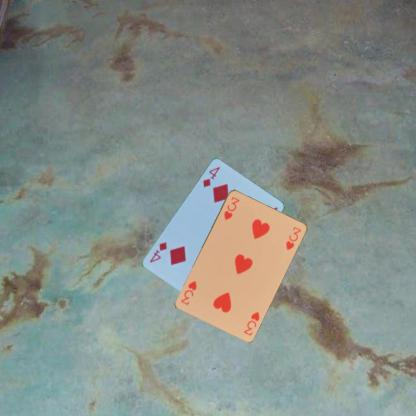3h: (241, 308, 261, 337), (221, 194, 241, 221)
4d: (200, 164, 221, 188)
